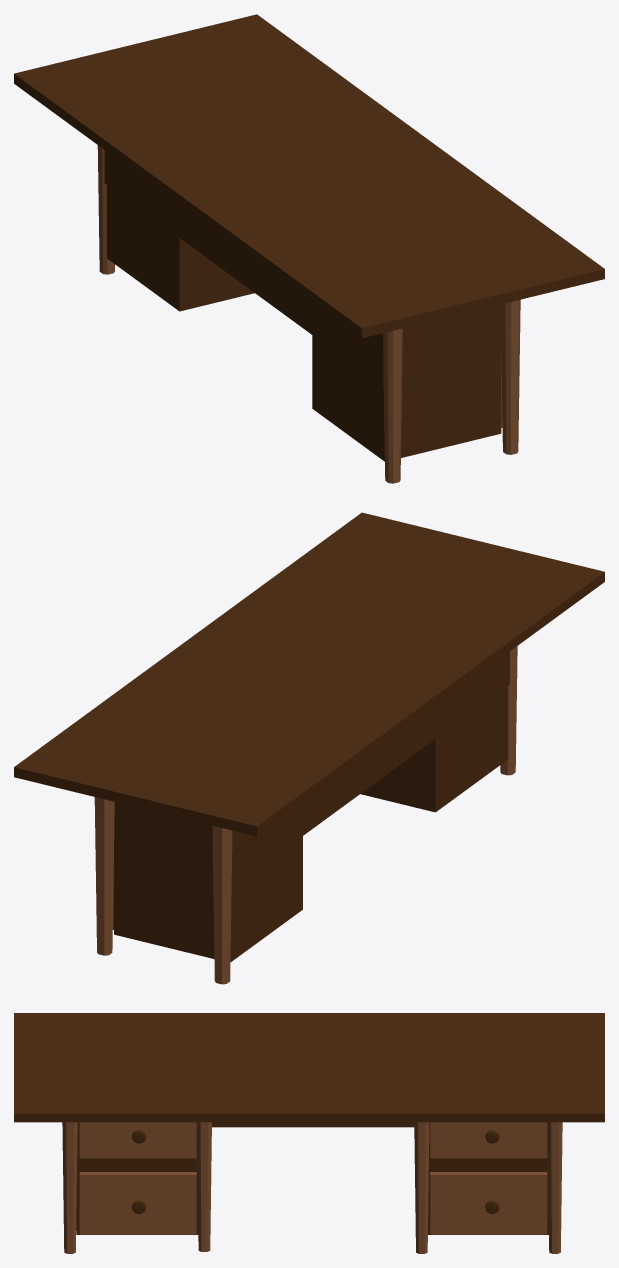
File: Table01.fbx
The picture shows the model from 3 angles, top to bottom: view 1: azimuth 30°, elevation 25°; view 2: azimuth 150°, elevation 25°; view 3: azimuth 270°, elevation 25°; orthographic projection. The views are drawn at different scales.
Visible parts, largest first — view 1: pCube1, polySurface1, pCube11, pCube7, pCube9, pCube10, pCube8; view 2: pCube1, pCube7, pCube11, polySurface1, pCube8, pCube4, pCube10; view 3: pCube1, polySurface3, polySurface4, polySurface5, polySurface2, polySurface1, pCube7, pCube9, pCube13, pCube4, pCube12, pCube11.
Boxes of the visible parts, <box> form: pCube1: <box>14,14,604,338</box>; polySurface1: <box>312,304,501,461</box>; pCube11: <box>104,150,383,386</box>; pCube7: <box>107,185,254,311</box>; pCube9: <box>500,299,520,454</box>; pCube10: <box>383,328,402,483</box>; pCube8: <box>97,145,114,274</box>; pCube1: <box>14,512,604,836</box>; pCube7: <box>114,802,302,962</box>; pCube11: <box>231,651,509,887</box>; polySurface1: <box>360,686,508,812</box>; pCube8: <box>212,825,232,984</box>; pCube4: <box>94,797,114,955</box>; pCube10: <box>500,646,517,775</box>; pCube1: <box>14,1013,604,1122</box>; polySurface3: <box>79,1172,196,1234</box>; polySurface4: <box>430,1172,547,1234</box>; polySurface5: <box>430,1122,547,1158</box>; polySurface2: <box>79,1122,196,1158</box>; polySurface1: <box>76,1122,198,1234</box>; pCube7: <box>428,1122,548,1234</box>; pCube9: <box>62,1122,77,1253</box>; pCube13: <box>414,1122,429,1253</box>; pCube4: <box>547,1122,562,1253</box>; pCube12: <box>197,1122,211,1251</box>; pCube11: <box>212,1122,414,1127</box>.
Bounding box in the file's own units: 9.36 × 7.06 × 23.2.
